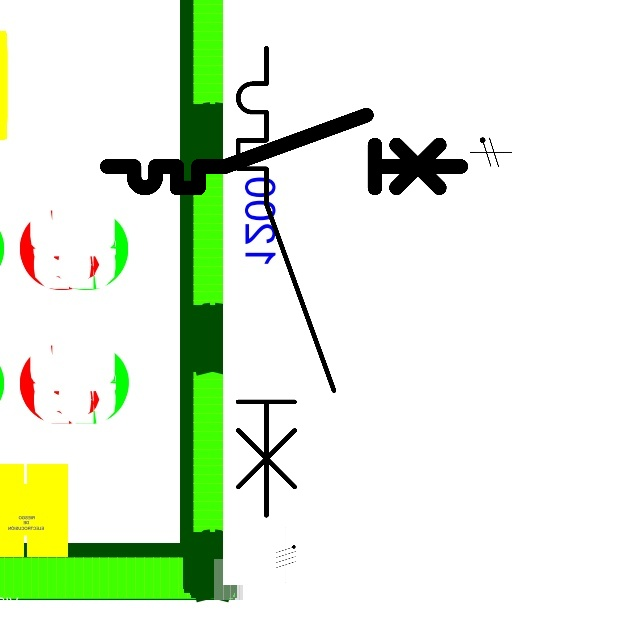interruptor_termomagnetico: (226, 36, 346, 527), (98, 106, 470, 197)
